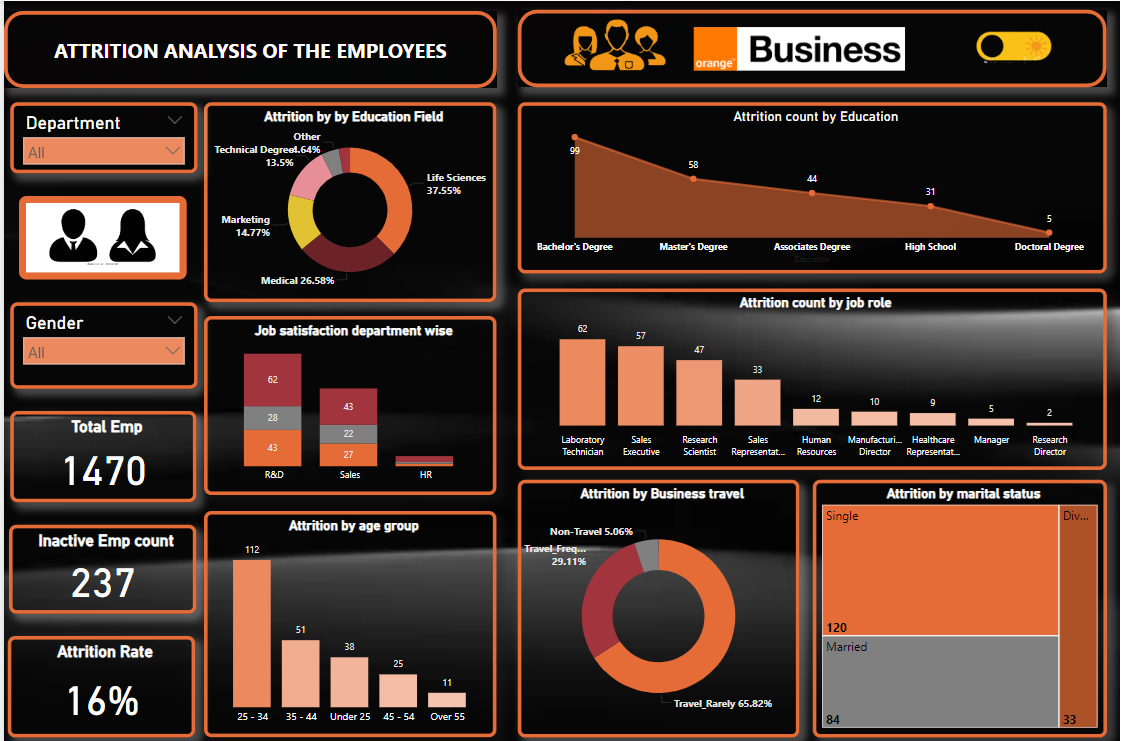

The page's visual inventory and layout, read from the dashboard file:
{"tool":"powerbi","page":{"name":"Night mode","canvas":[1500,1000],"ordinal":0},"visuals":[{"type":"shape","box":[0,12.7,660.6,103.2],"z":0},{"type":"card","title":"Inactive Emp count","fields":{"Values":["HR data.total_inactive_emp"]},"box":[6.7,702.1,251.3,119],"z":1000},{"type":"card","title":"Total Emp","fields":{"Values":["HR data.total_emp"]},"box":[8.4,549.6,249.7,122.3],"z":2000},{"type":"card","title":"Attrition Rate","fields":{"Values":["HR data.Attrition_rate"]},"box":[5,851.2,251.3,135.7],"z":3000},{"type":"donutChart","title":"Attrition by by Education Field","fields":{"Category":["HR data.Education Field"],"Y":["HR data.total_inactive_emp"]},"box":[268.1,135.7,392.1,268.1],"z":4000},{"type":"slicer","fields":{"Values":["HR data.Department"]},"box":[8.4,135.7,251.3,95.5],"z":5000},{"type":"columnChart","title":"Attrition by age group","fields":{"Y":["HR data.total_inactive_emp"],"Category":["HR data.CF_age band"]},"box":[268.1,683.6,392.1,303.3],"z":6000},{"type":"lineChart","title":"Attrition count by Education","fields":{"Category":["HR data.Education"],"Y":["Sum(HR data.inactive_emp)"]},"box":[688.7,135.7,789.2,229.6],"z":7000},{"type":"slicer","fields":{"Values":["HR data.Gender"]},"box":[8.4,403.8,251.3,115.6],"z":8000},{"type":"columnChart","title":"Attrition count by job role","fields":{"Y":["Sum(HR data.inactive_emp)"],"Category":["HR data.Job Role"]},"box":[688.7,385.4,789.2,243],"z":9000},{"type":"donutChart","title":"Attrition by Business travel","fields":{"Category":["HR data.Business Travel"],"Y":["HR data.total_inactive_emp"]},"box":[688.9,641.3,377.6,345.3],"z":10000},{"type":"treemap","title":"Attrition by marital status ","fields":{"Values":["HR data.total_inactive_emp"],"Group":["HR data.Marital Status"]},"box":[1083.6,641.3,394.6,345.3],"z":11000},{"type":"shape","box":[688.9,11.9,789.3,103.8],"z":12000},{"type":"image","box":[916.9,30.6,299.4,68],"z":13000},{"type":"image","box":[722.2,13.4,194.4,87.1],"z":14000},{"type":"columnChart","title":"Job satisfaction department wise ","fields":{"Category":["HR data.Department"],"Y":["HR data.total_inactive_emp"],"Series":["HR data.job_sat"]},"box":[268.1,422.3,392.1,239.6],"z":15000},{"type":"image","box":[20.1,261.4,224.5,112.3],"z":16000},{"type":"image","box":[1280.2,18.4,144.1,78.8],"z":17000}]}

Visuals, with their boxes in screenshot pixels (x1, y1, x2, y2), scaled from the page's 1500x1000 canvas onto the 1125x741 screenshot:
shape: 0,9,495,86
"Inactive Emp count" card: 5,520,194,608
"Total Emp" card: 6,407,194,498
"Attrition Rate" card: 4,631,192,731
"Attrition by by Education Field" donutChart: 201,101,495,299
slicer - HR data.Department: 6,101,195,171
"Attrition by age group" columnChart: 201,507,495,731
"Attrition count by Education" lineChart: 517,101,1108,271
slicer - HR data.Gender: 6,299,195,385
"Attrition count by job role" columnChart: 517,286,1108,466
"Attrition by Business travel" donutChart: 517,475,800,731
"Attrition by marital status " treemap: 813,475,1109,731
shape: 517,9,1109,86
image: 688,23,912,73
image: 542,10,687,74
"Job satisfaction department wise " columnChart: 201,313,495,490
image: 15,194,183,277
image: 960,14,1068,72
